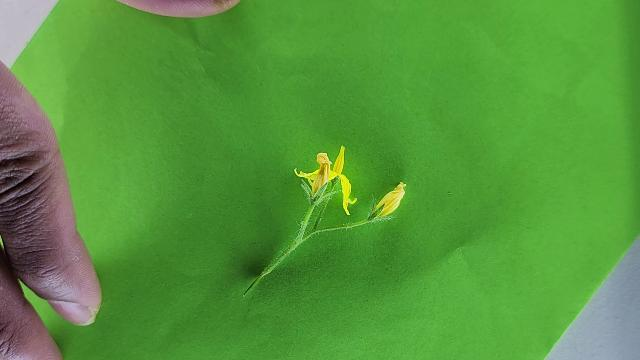Anthesis: (294, 144, 358, 215), (370, 181, 408, 221)
